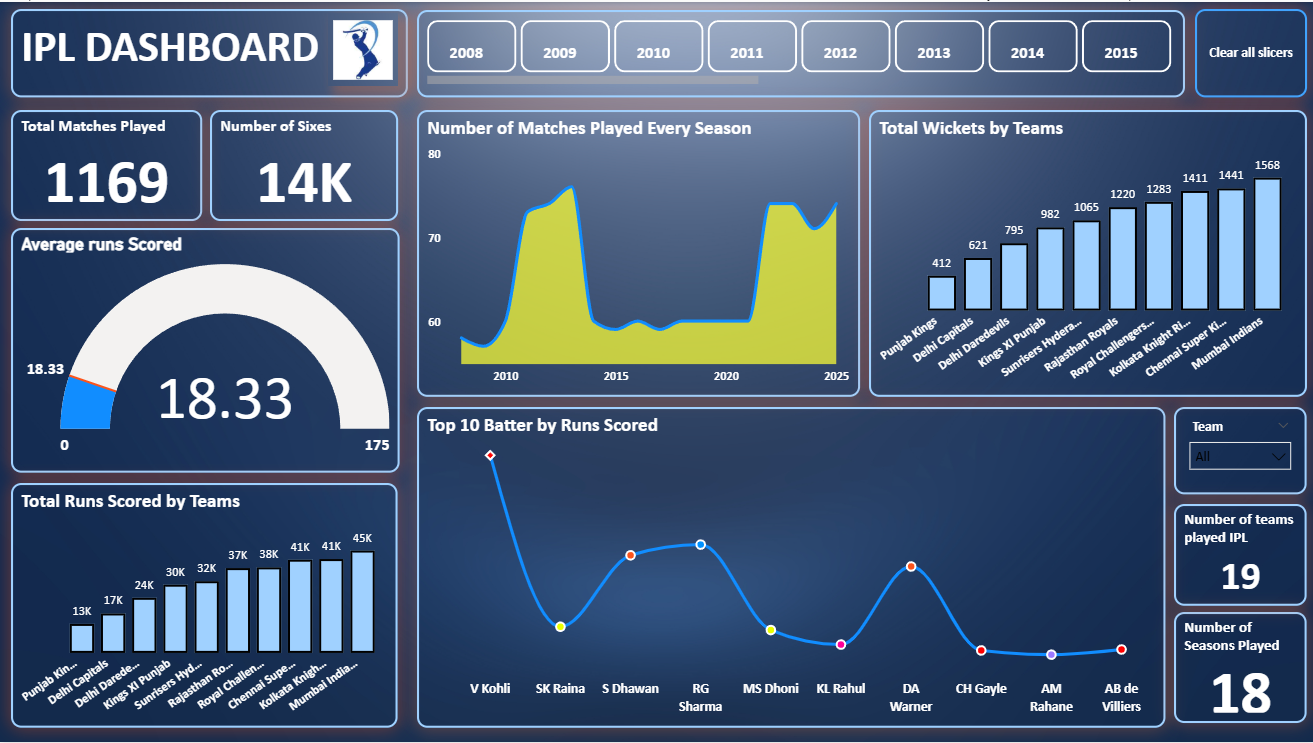

This screenshot's page, from the dashboard's own definition file:
{"tool":"powerbi","page":{"name":"IPL ","canvas":[1280,720],"ordinal":0},"visuals":[{"type":"textbox","box":[10.7,6.8,386.1,85.6],"z":0},{"type":"image","box":[319,10.7,68.1,71],"z":1000},{"type":"card","title":"Total Matches Played","fields":{"Values":["ipl_sorted_deliveries_data.Matches_Played"]},"box":[10.7,105,185.8,108],"z":2000},{"type":"areaChart","title":"Number of Matches Played Every Season","fields":{"Category":["ipl_sorted_deliveries_data.date.Variation.Date Hierarchy.Year"],"Y":["Count(ipl_sorted_deliveries_data.match_id)"]},"box":[405.6,105,430.9,279.1],"z":3000},{"type":"advancedSlicerVisual","fields":{"Values":["ipl_sorted_deliveries_data.date.Variation.Date Hierarchy.Year"]},"box":[405.6,7.8,747,84.6],"z":4000},{"type":"gauge","title":"Average runs Scored","fields":{"Y":["Avg(ipl_sorted_deliveries_data.batsman_runs)"],"MinValue":["Min(ipl_sorted_deliveries_data.batsman_runs)1"],"MaxValue":["Max(ipl_sorted_deliveries_data.batsman_runs)2"],"TargetValue":["Avg(ipl_sorted_deliveries_data.batsman_runs)"]},"box":[10.7,219.8,378.4,238.3],"z":6000},{"type":"lineChart","title":"Top 10 Batter by Runs Scored","fields":{"Category":["ipl_sorted_deliveries_data.batter","ipl_sorted_deliveries_data.date"],"Y":["Sum(ipl_sorted_deliveries_data.total_runs)"]},"box":[405.6,393.9,727.5,312.2],"z":7000},{"type":"slicer","fields":{"Values":["ipl_sorted_deliveries_data.batting_team"]},"box":[1141.9,393.9,129.4,84.6],"z":8000},{"type":"actionButton","box":[1162.3,6.8,108.9,85.6],"z":9000},{"type":"card","title":"Number of Seasons Played","fields":{"Values":["Count(ipl_sorted_deliveries_data.date.Variation.Date Hierarchy.Year)"]},"box":[1141.9,593.3,129.4,108],"z":10000},{"type":"clusteredColumnChart","title":"Total Wickets by Teams","fields":{"Category":["ipl_sorted_deliveries_data.bowling_team"],"Y":["Sum(ipl_sorted_deliveries_data.is_wicket)"]},"box":[845.2,105,426,279.1],"z":11000},{"type":"card","title":"Number of teams played IPL","fields":{"Values":["Count(ipl_sorted_deliveries_data.batting_team)"]},"box":[1141.9,488.3,129.4,99.2],"z":12000},{"type":"clusteredColumnChart","title":"Total Runs Scored by Teams","fields":{"Category":["ipl_sorted_deliveries_data.batting_team"],"Y":["Sum(ipl_sorted_deliveries_data.total_runs)"]},"box":[10.7,467.8,376.4,238.3],"z":12001},{"type":"card","title":"Number of Sixes","fields":{"Values":["ipl_sorted_deliveries_data.Total Sixes"]},"box":[204.3,105,182.9,108],"z":12002}]}

Visuals, with their boxes in screenshot pixels (x1, y1, x2, y2), scaled from the page's 1280x720 canvas onto the 1313x743 screenshot:
textbox: BBox(11, 7, 407, 95)
image: BBox(327, 11, 397, 84)
"Total Matches Played" card: BBox(11, 108, 202, 220)
"Number of Matches Played Every Season" areaChart: BBox(416, 108, 858, 396)
advancedSlicerVisual - ipl_sorted_deliveries_data.date.Variation.Date Hierarchy.Year: BBox(416, 8, 1182, 95)
"Average runs Scored" gauge: BBox(11, 227, 399, 473)
"Top 10 Batter by Runs Scored" lineChart: BBox(416, 406, 1162, 729)
slicer - ipl_sorted_deliveries_data.batting_team: BBox(1171, 406, 1304, 494)
actionButton: BBox(1192, 7, 1304, 95)
"Number of Seasons Played" card: BBox(1171, 612, 1304, 724)
"Total Wickets by Teams" clusteredColumnChart: BBox(867, 108, 1304, 396)
"Number of teams played IPL" card: BBox(1171, 504, 1304, 606)
"Total Runs Scored by Teams" clusteredColumnChart: BBox(11, 483, 397, 729)
"Number of Sixes" card: BBox(210, 108, 397, 220)
